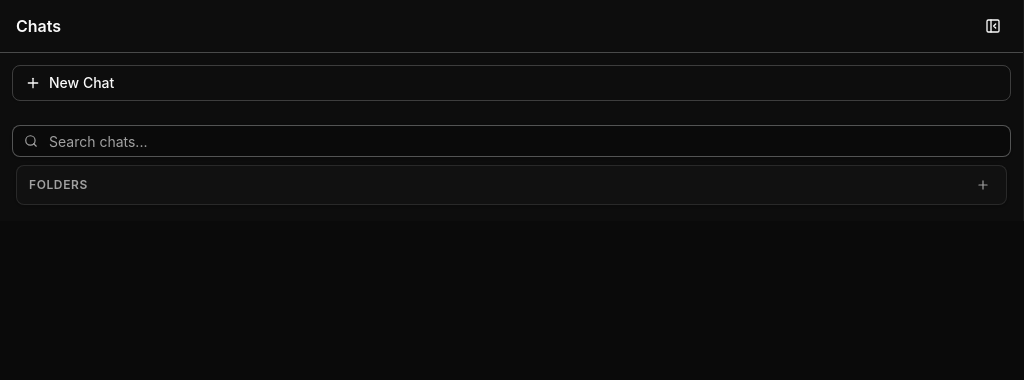
SessionList › Search API › should show no results message when search returns empty
The image size is (1024, 380).
Type "notfound" into the search field with placeholder "Search chats..." at (512, 141), box top-left (12, 125), bottom-right (1011, 157)
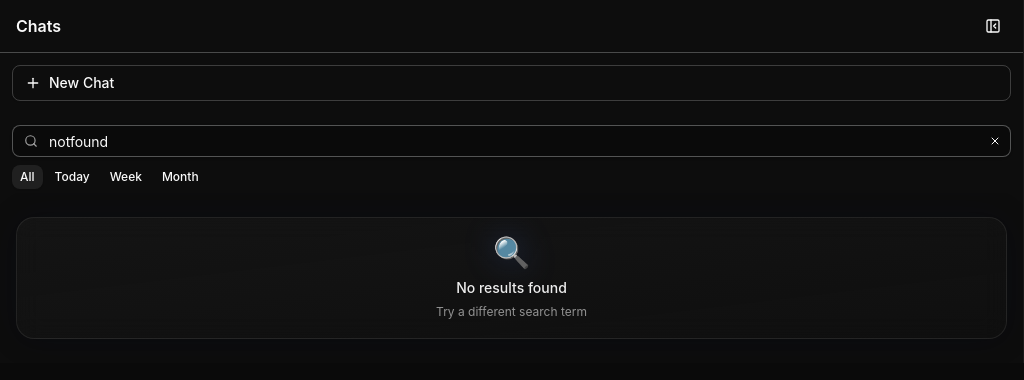
Expected: the text "No results found" is shown, top-left (456, 279), bottom-right (567, 296)
